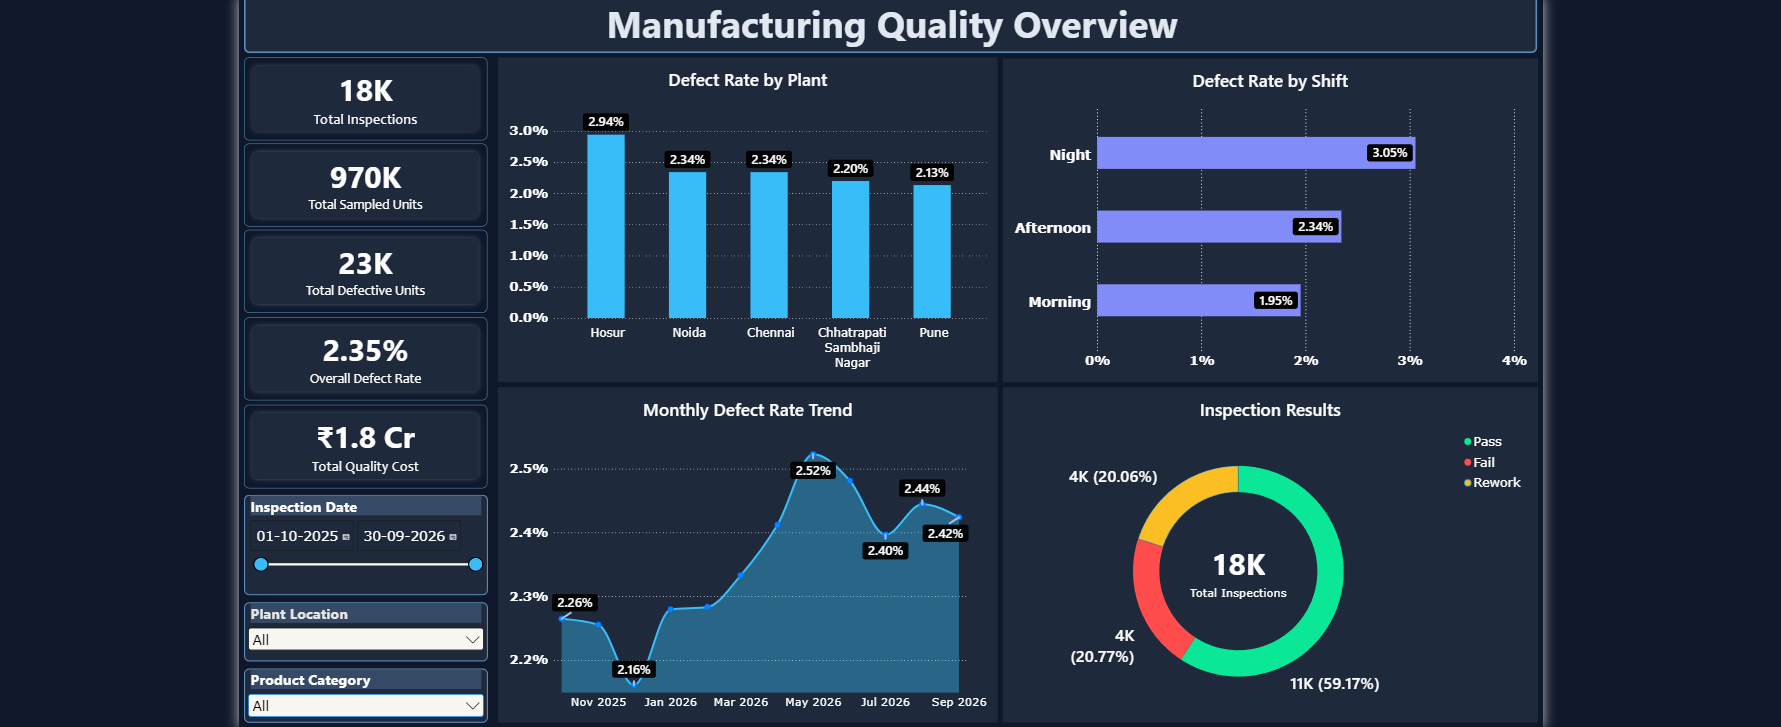

This screenshot's page, from the dashboard's own definition file:
{"tool":"powerbi","page":{"name":"Manufacturing Quality Overview","canvas":[1920,1080],"ordinal":0},"visuals":[{"type":"cardVisual","title":"Total Inspections","fields":{"Data":["Count(product_quality_control_cleaned.inspection_id)"]},"box":[7.1,90,358.3,122.7],"z":0},{"type":"textbox","title":"Manufacturing Quality Overview","box":[8,0,1904,84],"z":1000},{"type":"clusteredColumnChart","title":"Defect Rate by Plant","fields":{"Category":["product_quality_control_cleaned.plant_location"],"Y":["product_quality_control_cleaned.Overall Defect Rate"]},"box":[381,90.2,736.2,478.5],"z":2000},{"type":"cardVisual","fields":{"Data":["product_quality_control_cleaned.Total Sampled Units"]},"box":[7.9,217.8,358,122],"z":3000},{"type":"cardVisual","fields":{"Data":["Sum(product_quality_control_cleaned.units_defective)"]},"box":[7.3,344.6,358,122],"z":4000},{"type":"lineChart","title":"Monthly Defect Rate Trend","fields":{"Category":["product_quality_control_cleaned.inspection_date.Variation.Date Hierarchy.Year","product_quality_control_cleaned.inspection_date.Variation.Date Hierarchy.Month"],"Y":["product_quality_control_cleaned.Overall Defect Rate"]},"box":[381,576.1,736.2,493.3],"z":5000},{"type":"clusteredBarChart","title":"Defect Rate by Shift","fields":{"Category":["product_quality_control_cleaned.shift"],"Y":["product_quality_control_cleaned.Overall Defect Rate"]},"box":[1124.5,92,787.7,476.7],"z":6000},{"type":"cardVisual","fields":{"Data":["product_quality_control_cleaned.Overall Defect Rate (%)"]},"box":[8,472.4,358,122],"z":7000},{"type":"cardVisual","fields":{"Data":["product_quality_control_cleaned.Total Quality Cost"]},"box":[7.3,601,358.6,122.9],"z":8000},{"type":"donutChart","title":"Inspection Results","fields":{"Category":["product_quality_control_cleaned.inspection_result"],"Y":["product_quality_control_cleaned.Total Inspections"]},"box":[1124.5,576.1,787.7,493.3],"z":9000},{"type":"slicer","fields":{"Values":["product_quality_control_cleaned.plant_location"]},"box":[7,893,359,87],"z":10000},{"type":"slicer","fields":{"Values":["product_quality_control_cleaned.inspection_date"]},"box":[7,734,359,148],"z":11000},{"type":"slicer","fields":{"Values":["product_quality_control_cleaned.product_category"]},"box":[7,990,359,80],"z":12000}]}

Visuals, with their boxes on the page's 1920x1080 design canvas (x1, y1, x2, y2). These are canvas units, not pixel positions in the 1781x727 screenshot, which may show the page scaled, cropped or inside an application window:
"Total Inspections" cardVisual: pyautogui.locateOnScreen(7, 90, 365, 213)
"Manufacturing Quality Overview" textbox: pyautogui.locateOnScreen(8, 0, 1912, 84)
"Defect Rate by Plant" clusteredColumnChart: pyautogui.locateOnScreen(381, 90, 1117, 569)
cardVisual - product_quality_control_cleaned.Total Sampled Units: pyautogui.locateOnScreen(8, 218, 366, 340)
cardVisual - Sum(product_quality_control_cleaned.units_defective): pyautogui.locateOnScreen(7, 345, 365, 467)
"Monthly Defect Rate Trend" lineChart: pyautogui.locateOnScreen(381, 576, 1117, 1069)
"Defect Rate by Shift" clusteredBarChart: pyautogui.locateOnScreen(1124, 92, 1912, 569)
cardVisual - product_quality_control_cleaned.Overall Defect Rate (%): pyautogui.locateOnScreen(8, 472, 366, 594)
cardVisual - product_quality_control_cleaned.Total Quality Cost: pyautogui.locateOnScreen(7, 601, 366, 724)
"Inspection Results" donutChart: pyautogui.locateOnScreen(1124, 576, 1912, 1069)
slicer - product_quality_control_cleaned.plant_location: pyautogui.locateOnScreen(7, 893, 366, 980)
slicer - product_quality_control_cleaned.inspection_date: pyautogui.locateOnScreen(7, 734, 366, 882)
slicer - product_quality_control_cleaned.product_category: pyautogui.locateOnScreen(7, 990, 366, 1070)
